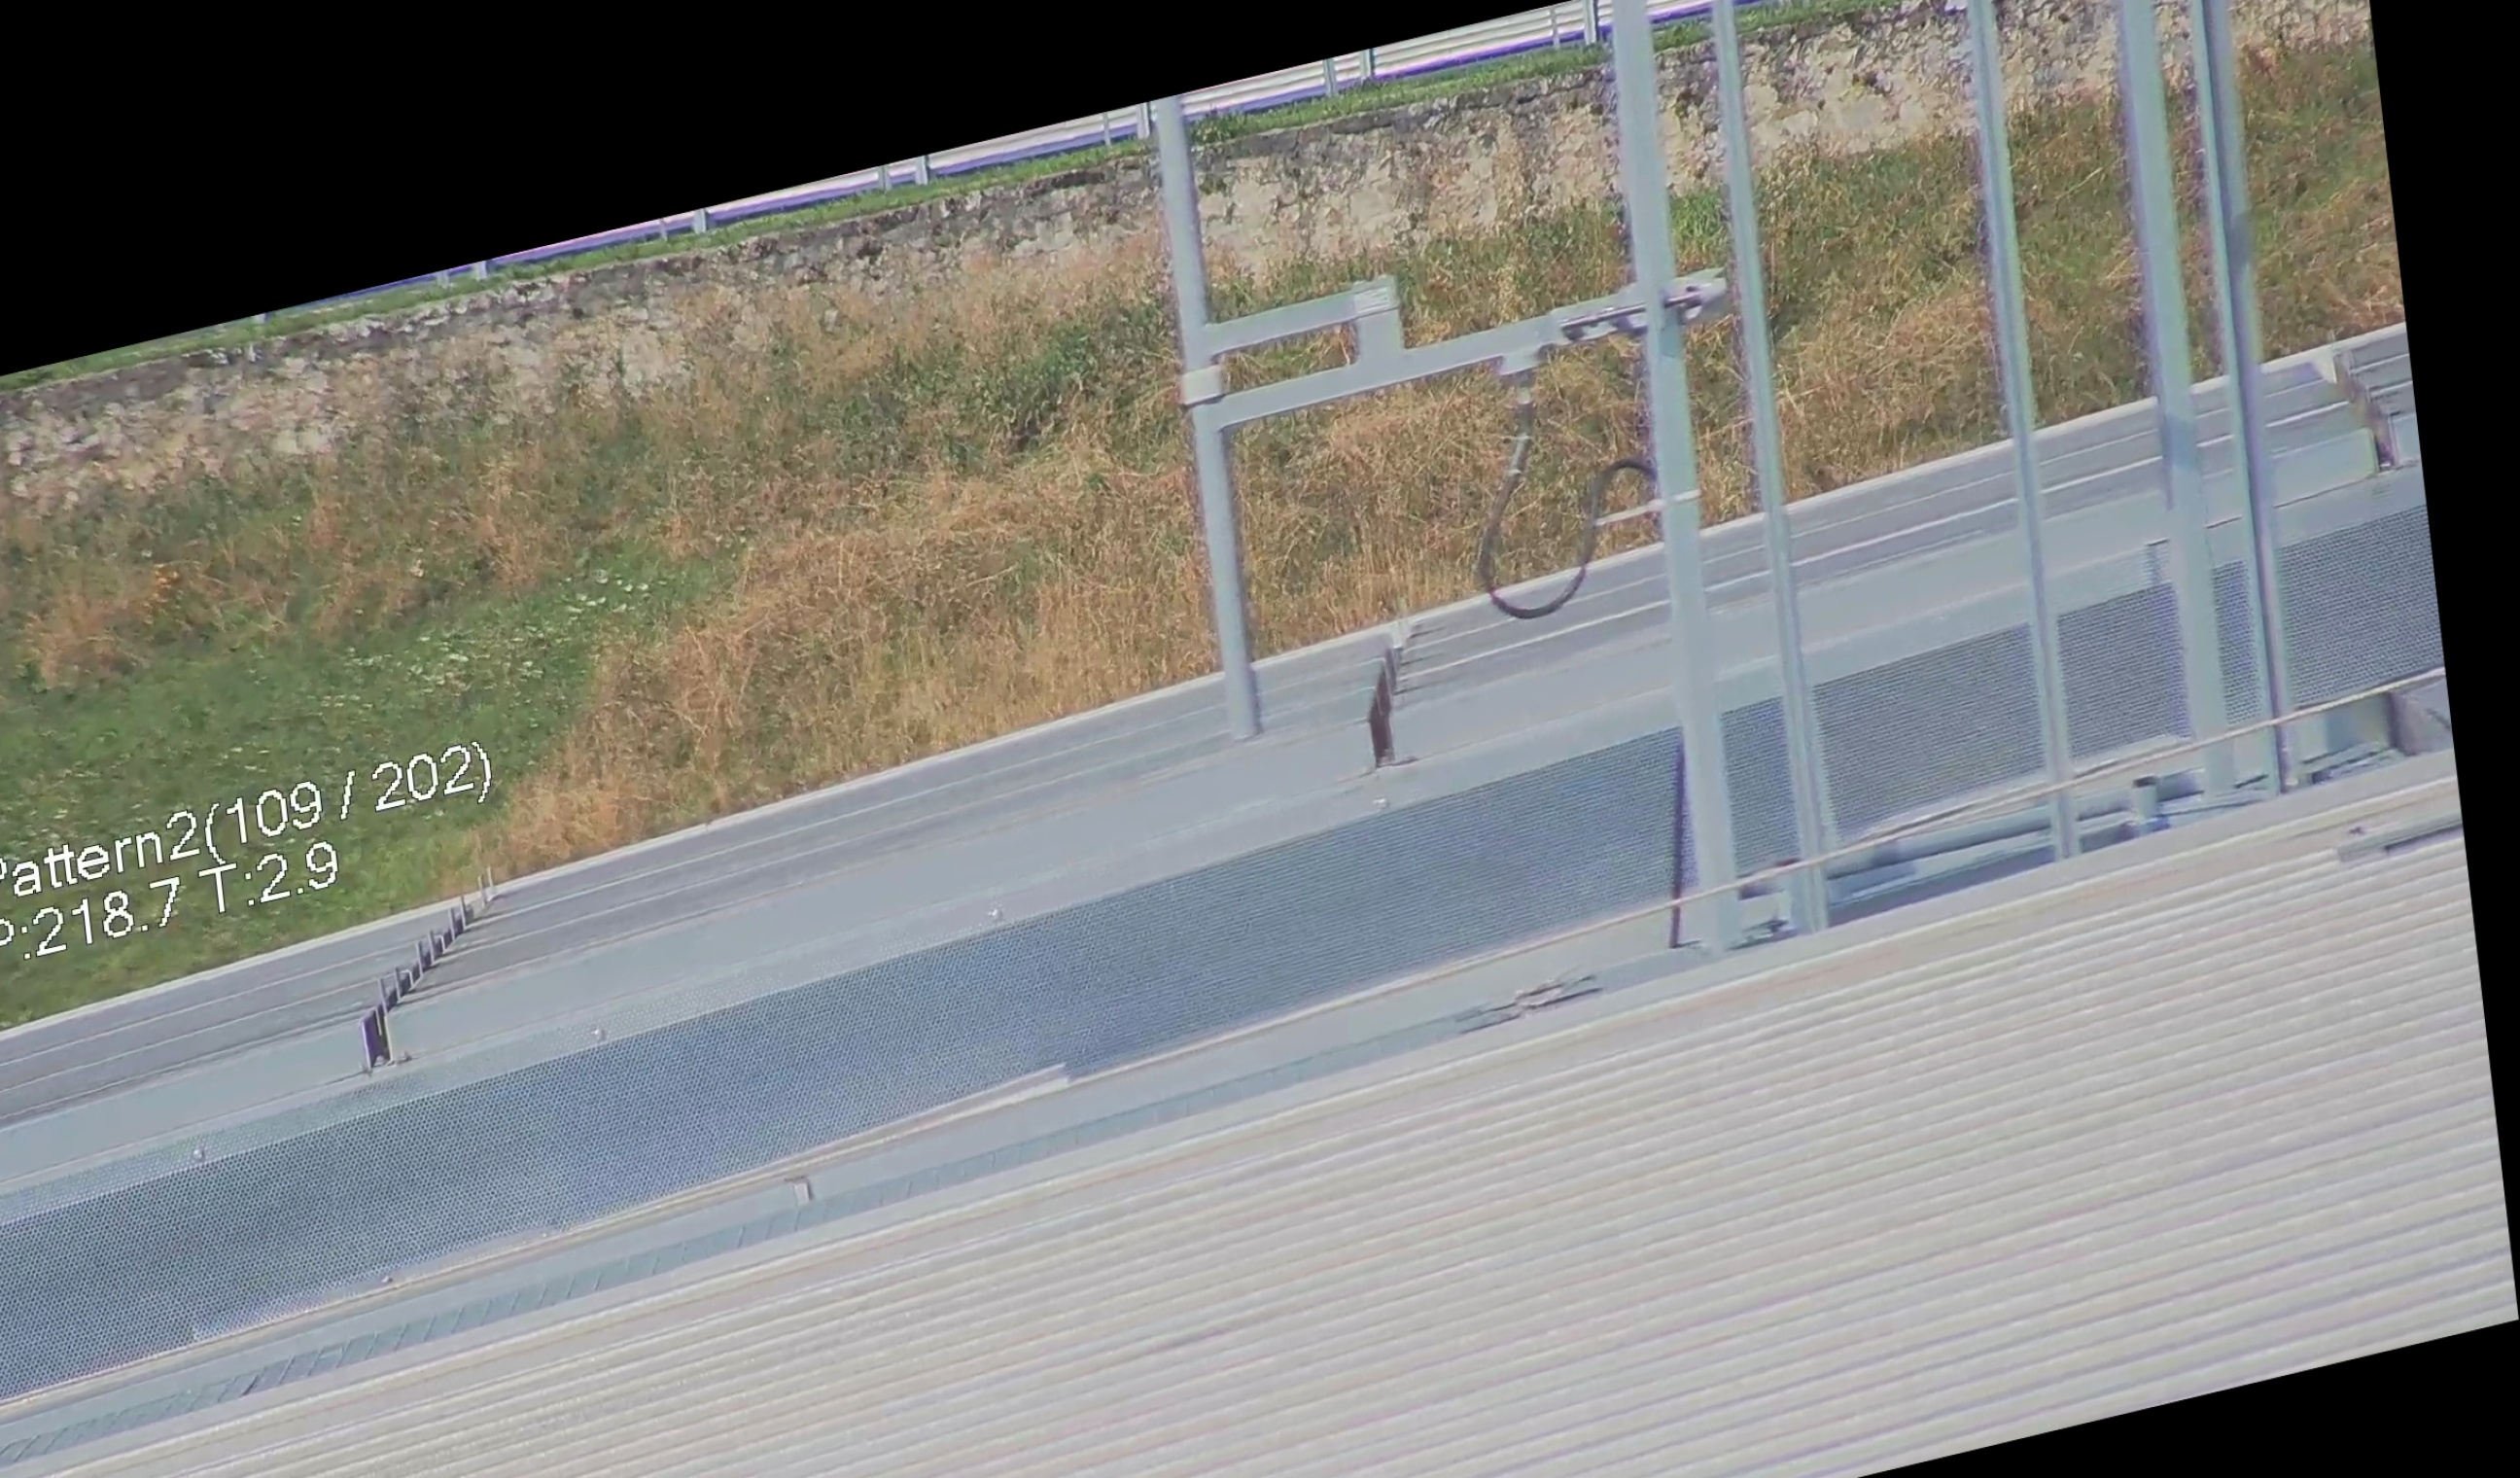Other: (1345, 612, 1438, 779)
